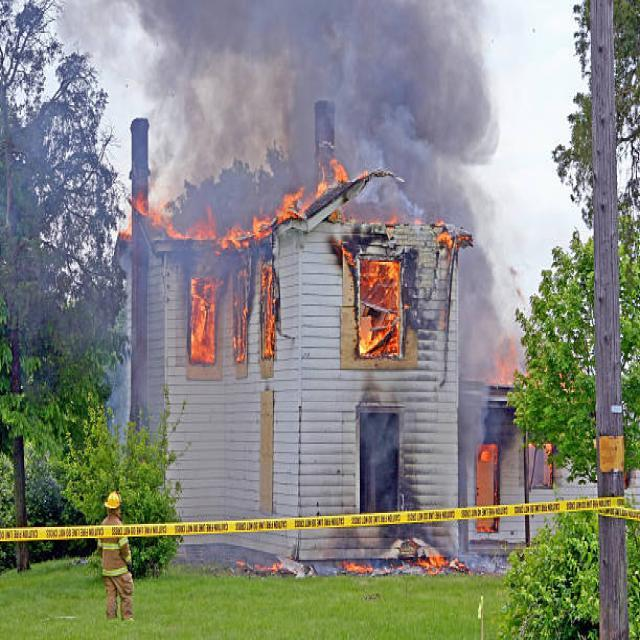Fire: (125, 194, 356, 252), (354, 255, 404, 358), (189, 272, 215, 368), (322, 154, 353, 193), (432, 226, 469, 256)
